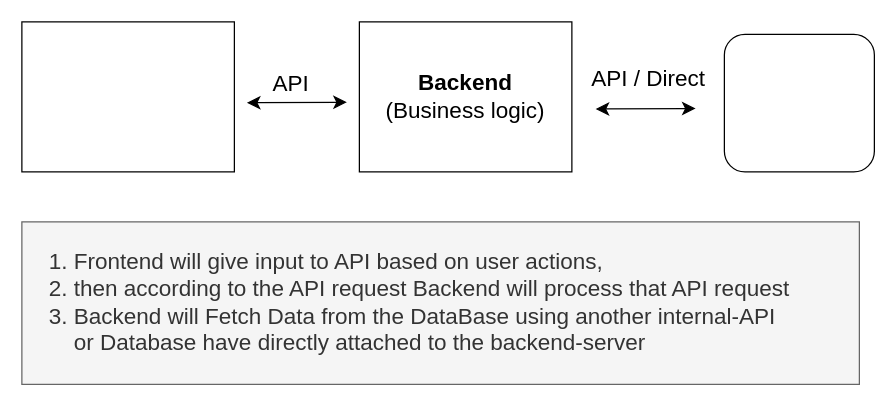
This 896x406 diagram has some shape labels left out. The box of each missing label's shape, as (x1, y1, x2, y2) in pixels:
DataBase: (723, 33, 874, 172)
Frontend (UI/UX): (21, 21, 234, 172)
